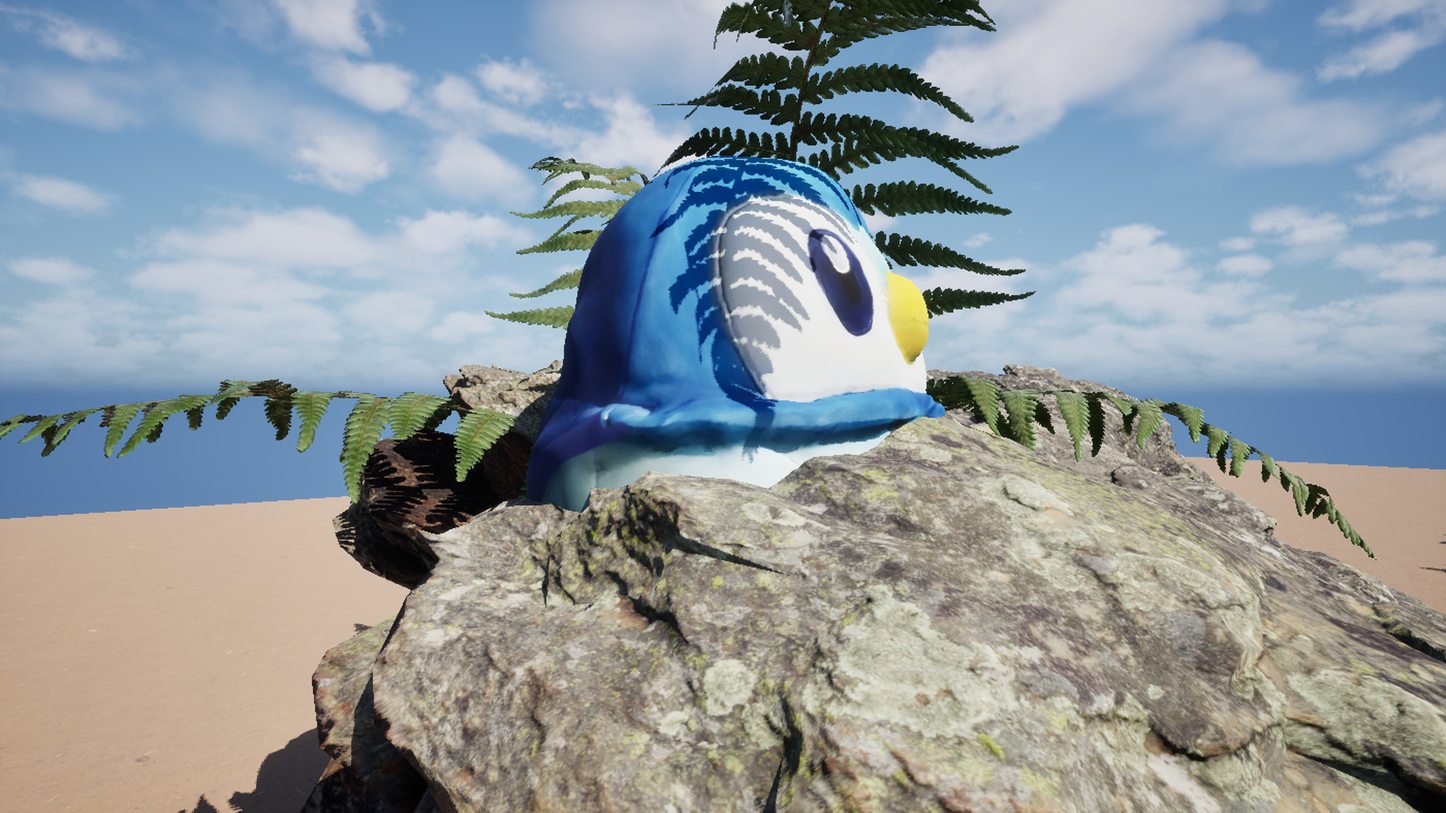Piplup: (340, 0, 1166, 813)
